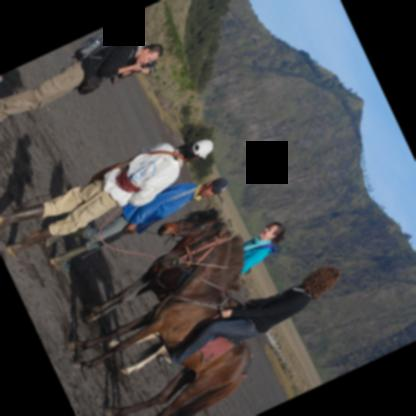backpack: (74, 32, 130, 62)
